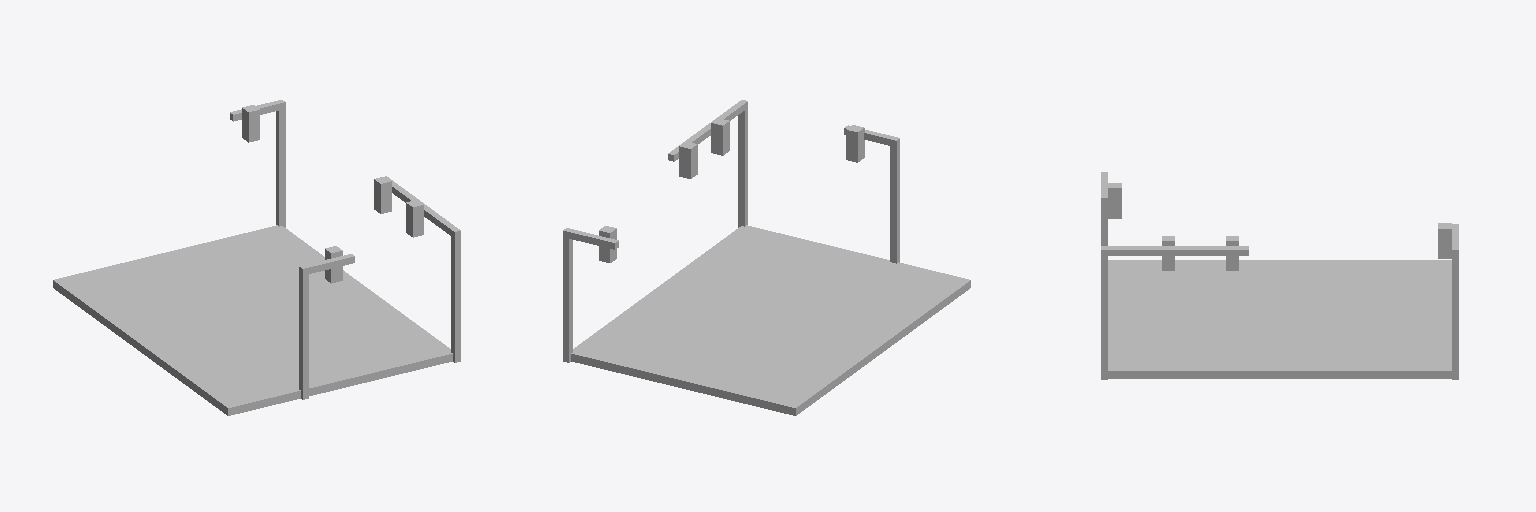
File: inter2101.obj
3 views of the same model, side by side, from view 1: azimuth 30°, elevation 25°; view 2: azimuth 150°, elevation 25°; view 3: azimuth 270°, elevation 25° (orthographic).
Parts seen in each view (by area): view 1: 2101_intersection_Plane.006; view 2: 2101_intersection_Plane.006; view 3: 2101_intersection_Plane.006.
Part boxes in pixels (x1,y1,x2,y2): 2101_intersection_Plane.006: (53, 100, 460, 415); 2101_intersection_Plane.006: (563, 100, 970, 415); 2101_intersection_Plane.006: (1101, 172, 1458, 379).
Bounding box in the file's own units: 3.04 × 1.71 × 4.08.